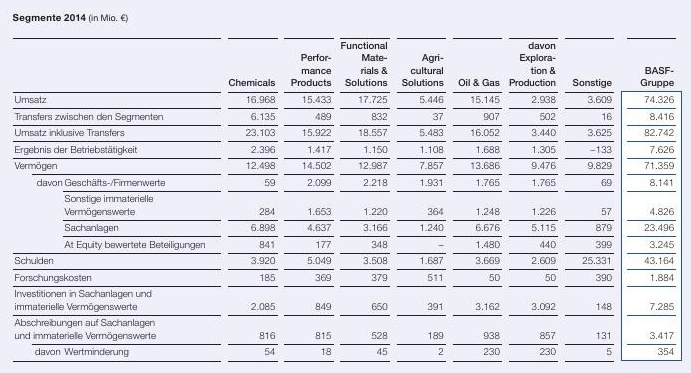table: (0, 0, 691, 373)
